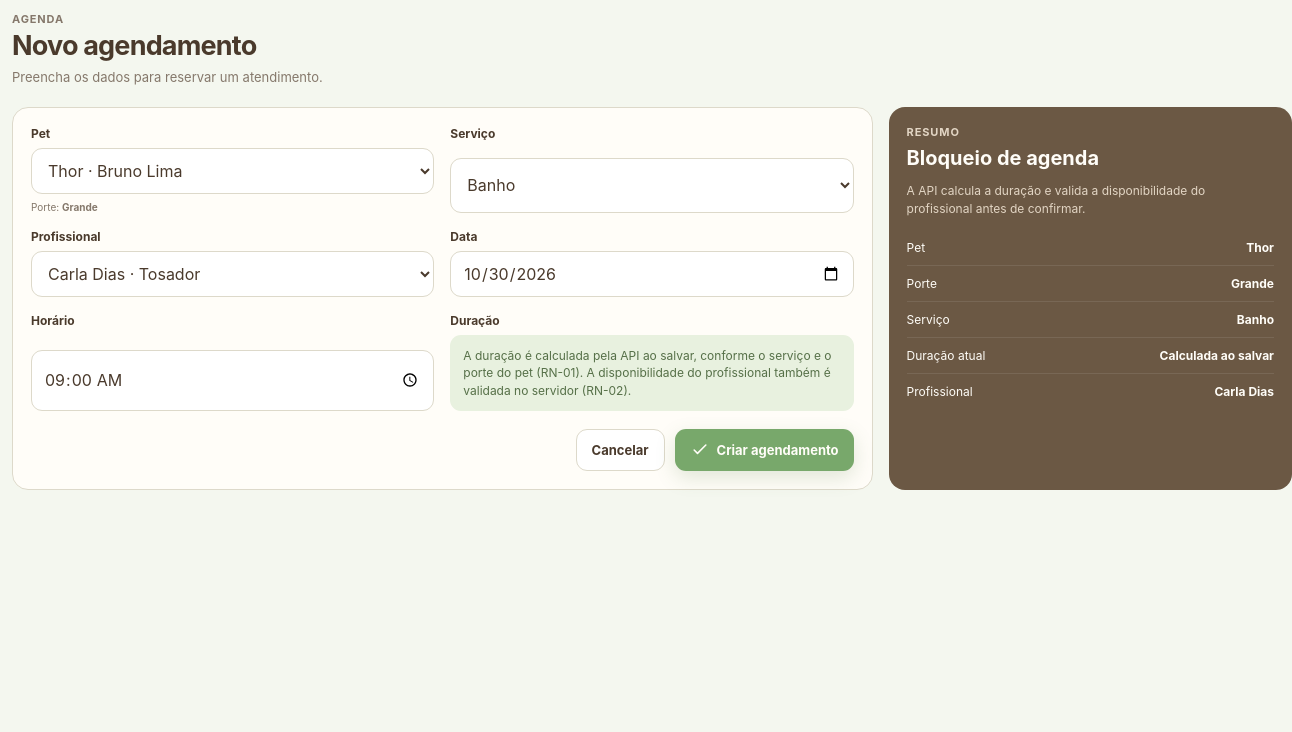
UI | NovoAgendamentoForm — Duração (RN-01 no backend) › deve exibir o erro de regra de negócio retornado pela API (ex.: conflito RN-02)
Click the button "Criar agendamento". click: click(764, 450)
box: [674,429,854,471]
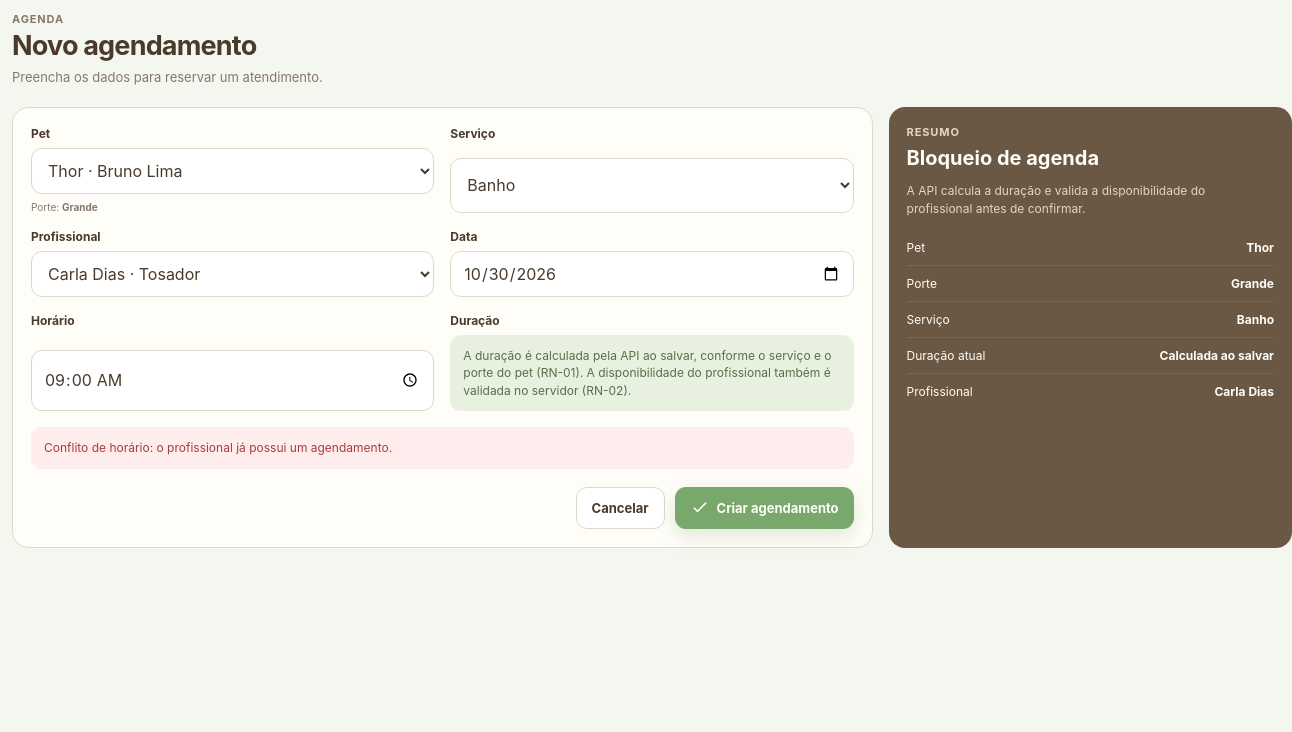
Expected: the message shows "Conflito de horário", [44,440,392,455]
